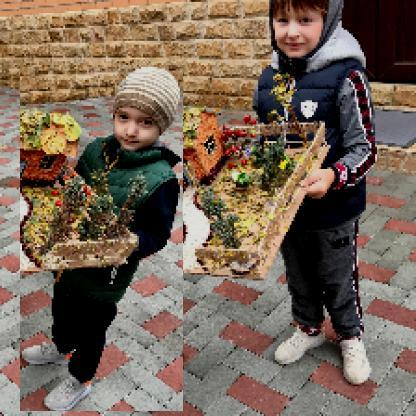child: (21, 66, 185, 413)
